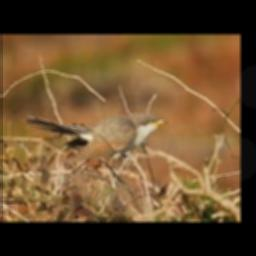Cuckoo: (26, 114, 169, 159)
